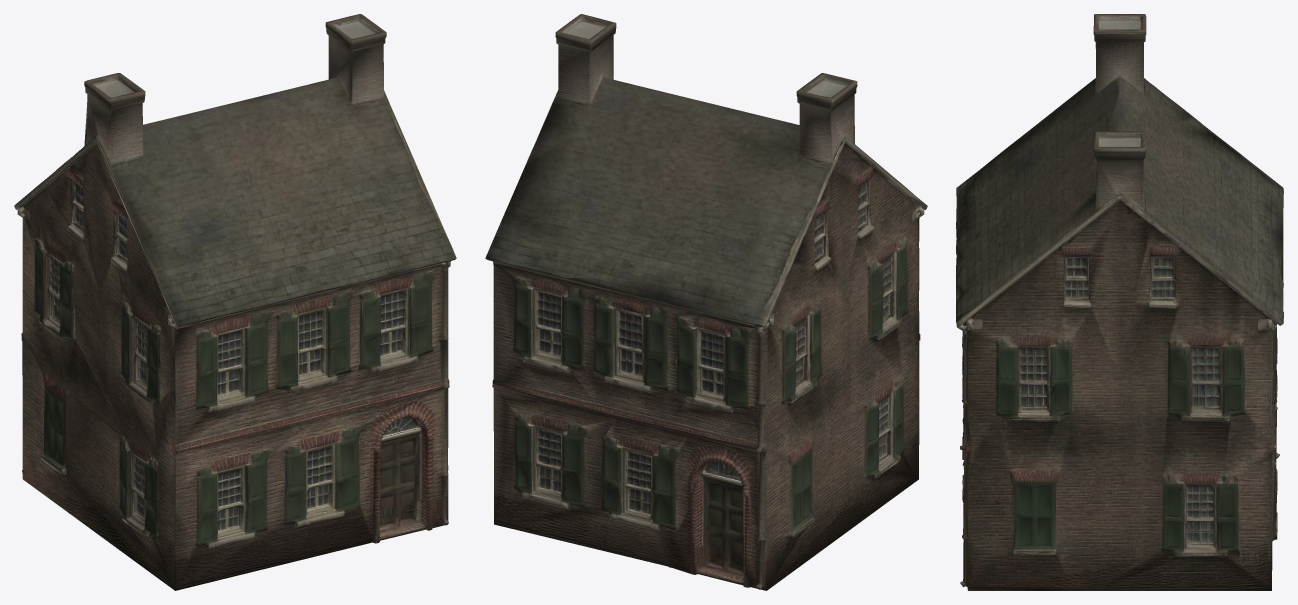
Rendered from bldg-row-brick-b.glb.
3 views of the same model, side by side, from view 1: azimuth 30°, elevation 25°; view 2: azimuth 150°, elevation 25°; view 3: azimuth 270°, elevation 25° (orthographic).
Parts seen in each view (by area): view 1: Mesh_0; view 2: Mesh_0; view 3: Mesh_0.
Boxes of the visible parts, x1=… form: Mesh_0: x1=14, y1=14, x2=456, y2=590; Mesh_0: x1=485, y1=14, x2=927, y2=590; Mesh_0: x1=956, y1=14, x2=1283, y2=590.
Size of the model in its own units: 1.27 by 1.9 by 1.27.
1 material, 1 textured.
